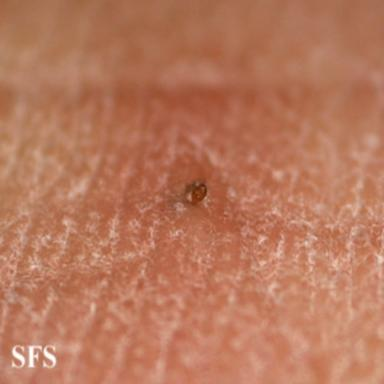Tungiasis: (182, 178, 207, 208)
